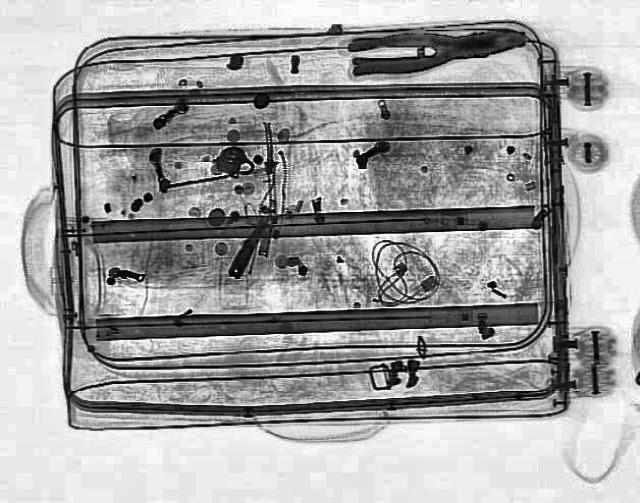Pliers: (344, 18, 530, 78)
